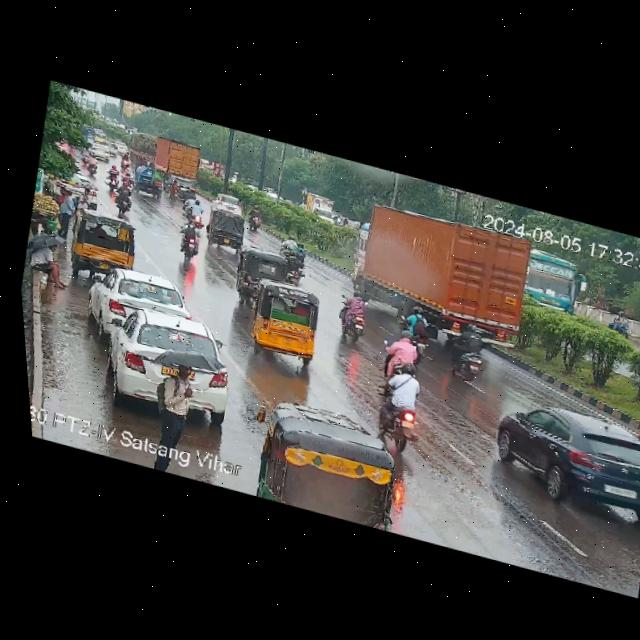bus: (521, 244, 593, 320)
car: (242, 397, 410, 532), (485, 394, 640, 532), (94, 299, 244, 426), (83, 260, 194, 340), (242, 278, 334, 369), (62, 205, 147, 282), (225, 242, 295, 307), (202, 206, 258, 255), (131, 163, 169, 203), (210, 191, 253, 219), (162, 171, 199, 201), (89, 142, 115, 162), (113, 140, 130, 156), (92, 132, 107, 145)
motorcycle: (357, 318, 441, 454), (437, 317, 497, 382), (393, 301, 445, 363), (334, 286, 380, 343), (173, 217, 210, 264), (272, 232, 314, 267), (604, 306, 636, 341), (179, 192, 209, 225), (112, 179, 136, 217), (103, 160, 129, 191), (246, 203, 265, 233), (83, 153, 103, 177)
person: (148, 359, 205, 444), (23, 231, 73, 289), (47, 184, 84, 235), (81, 184, 104, 211)
truck: (344, 195, 544, 353), (135, 131, 215, 188), (302, 189, 340, 226), (208, 160, 227, 181)
